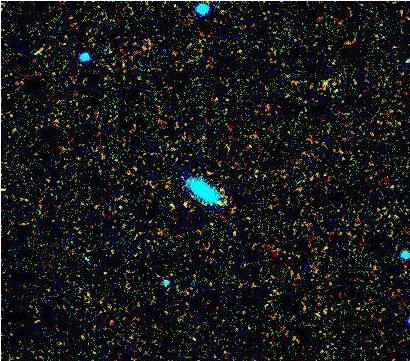star: (170, 188, 200, 218)
